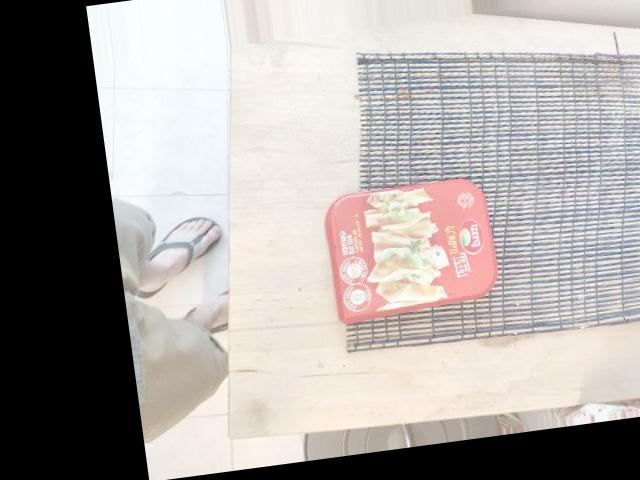cheese: (366, 58, 521, 244)
